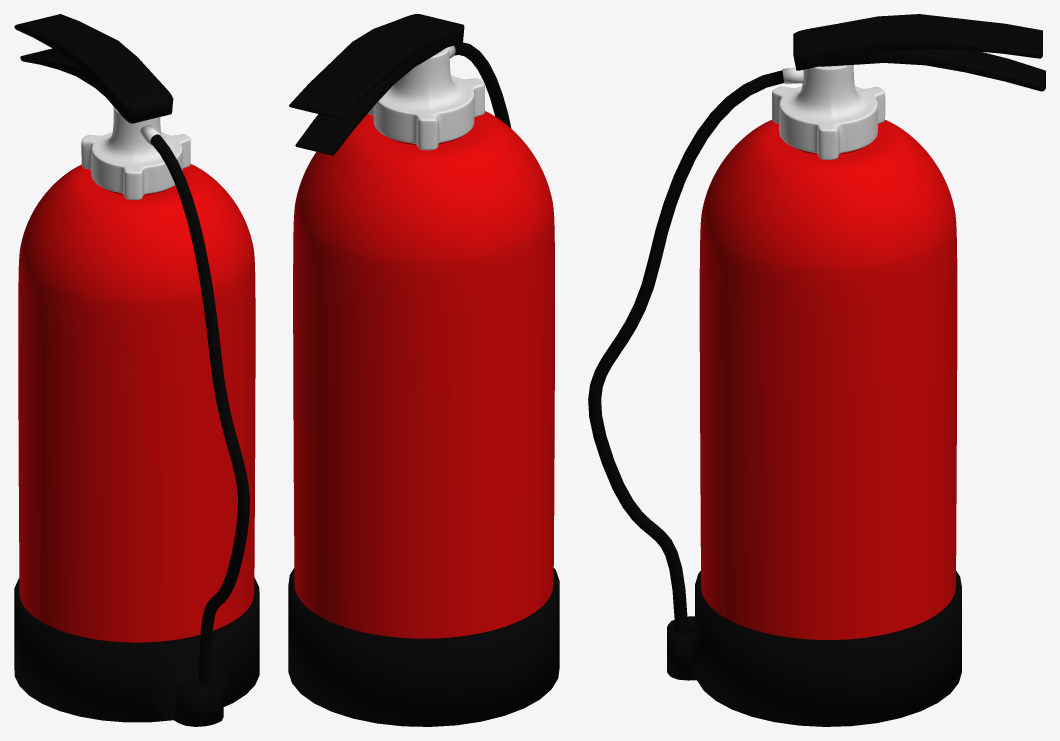
The model's file is FireExtinguisher.fbx.
3 renders of one model, left to right at view 1: azimuth 30°, elevation 25°; view 2: azimuth 150°, elevation 25°; view 3: azimuth 270°, elevation 25°, orthographic. The views are drawn at different scales.
Parts seen in each view (by area): view 1: Sphere; view 2: Sphere; view 3: Sphere.
Part boxes in pixels (bbox=[...]): Sphere: bbox=[14, 14, 259, 726]; Sphere: bbox=[288, 14, 559, 726]; Sphere: bbox=[588, 14, 1045, 726].
Size of the model in its own units: 205 by 546 by 351.
